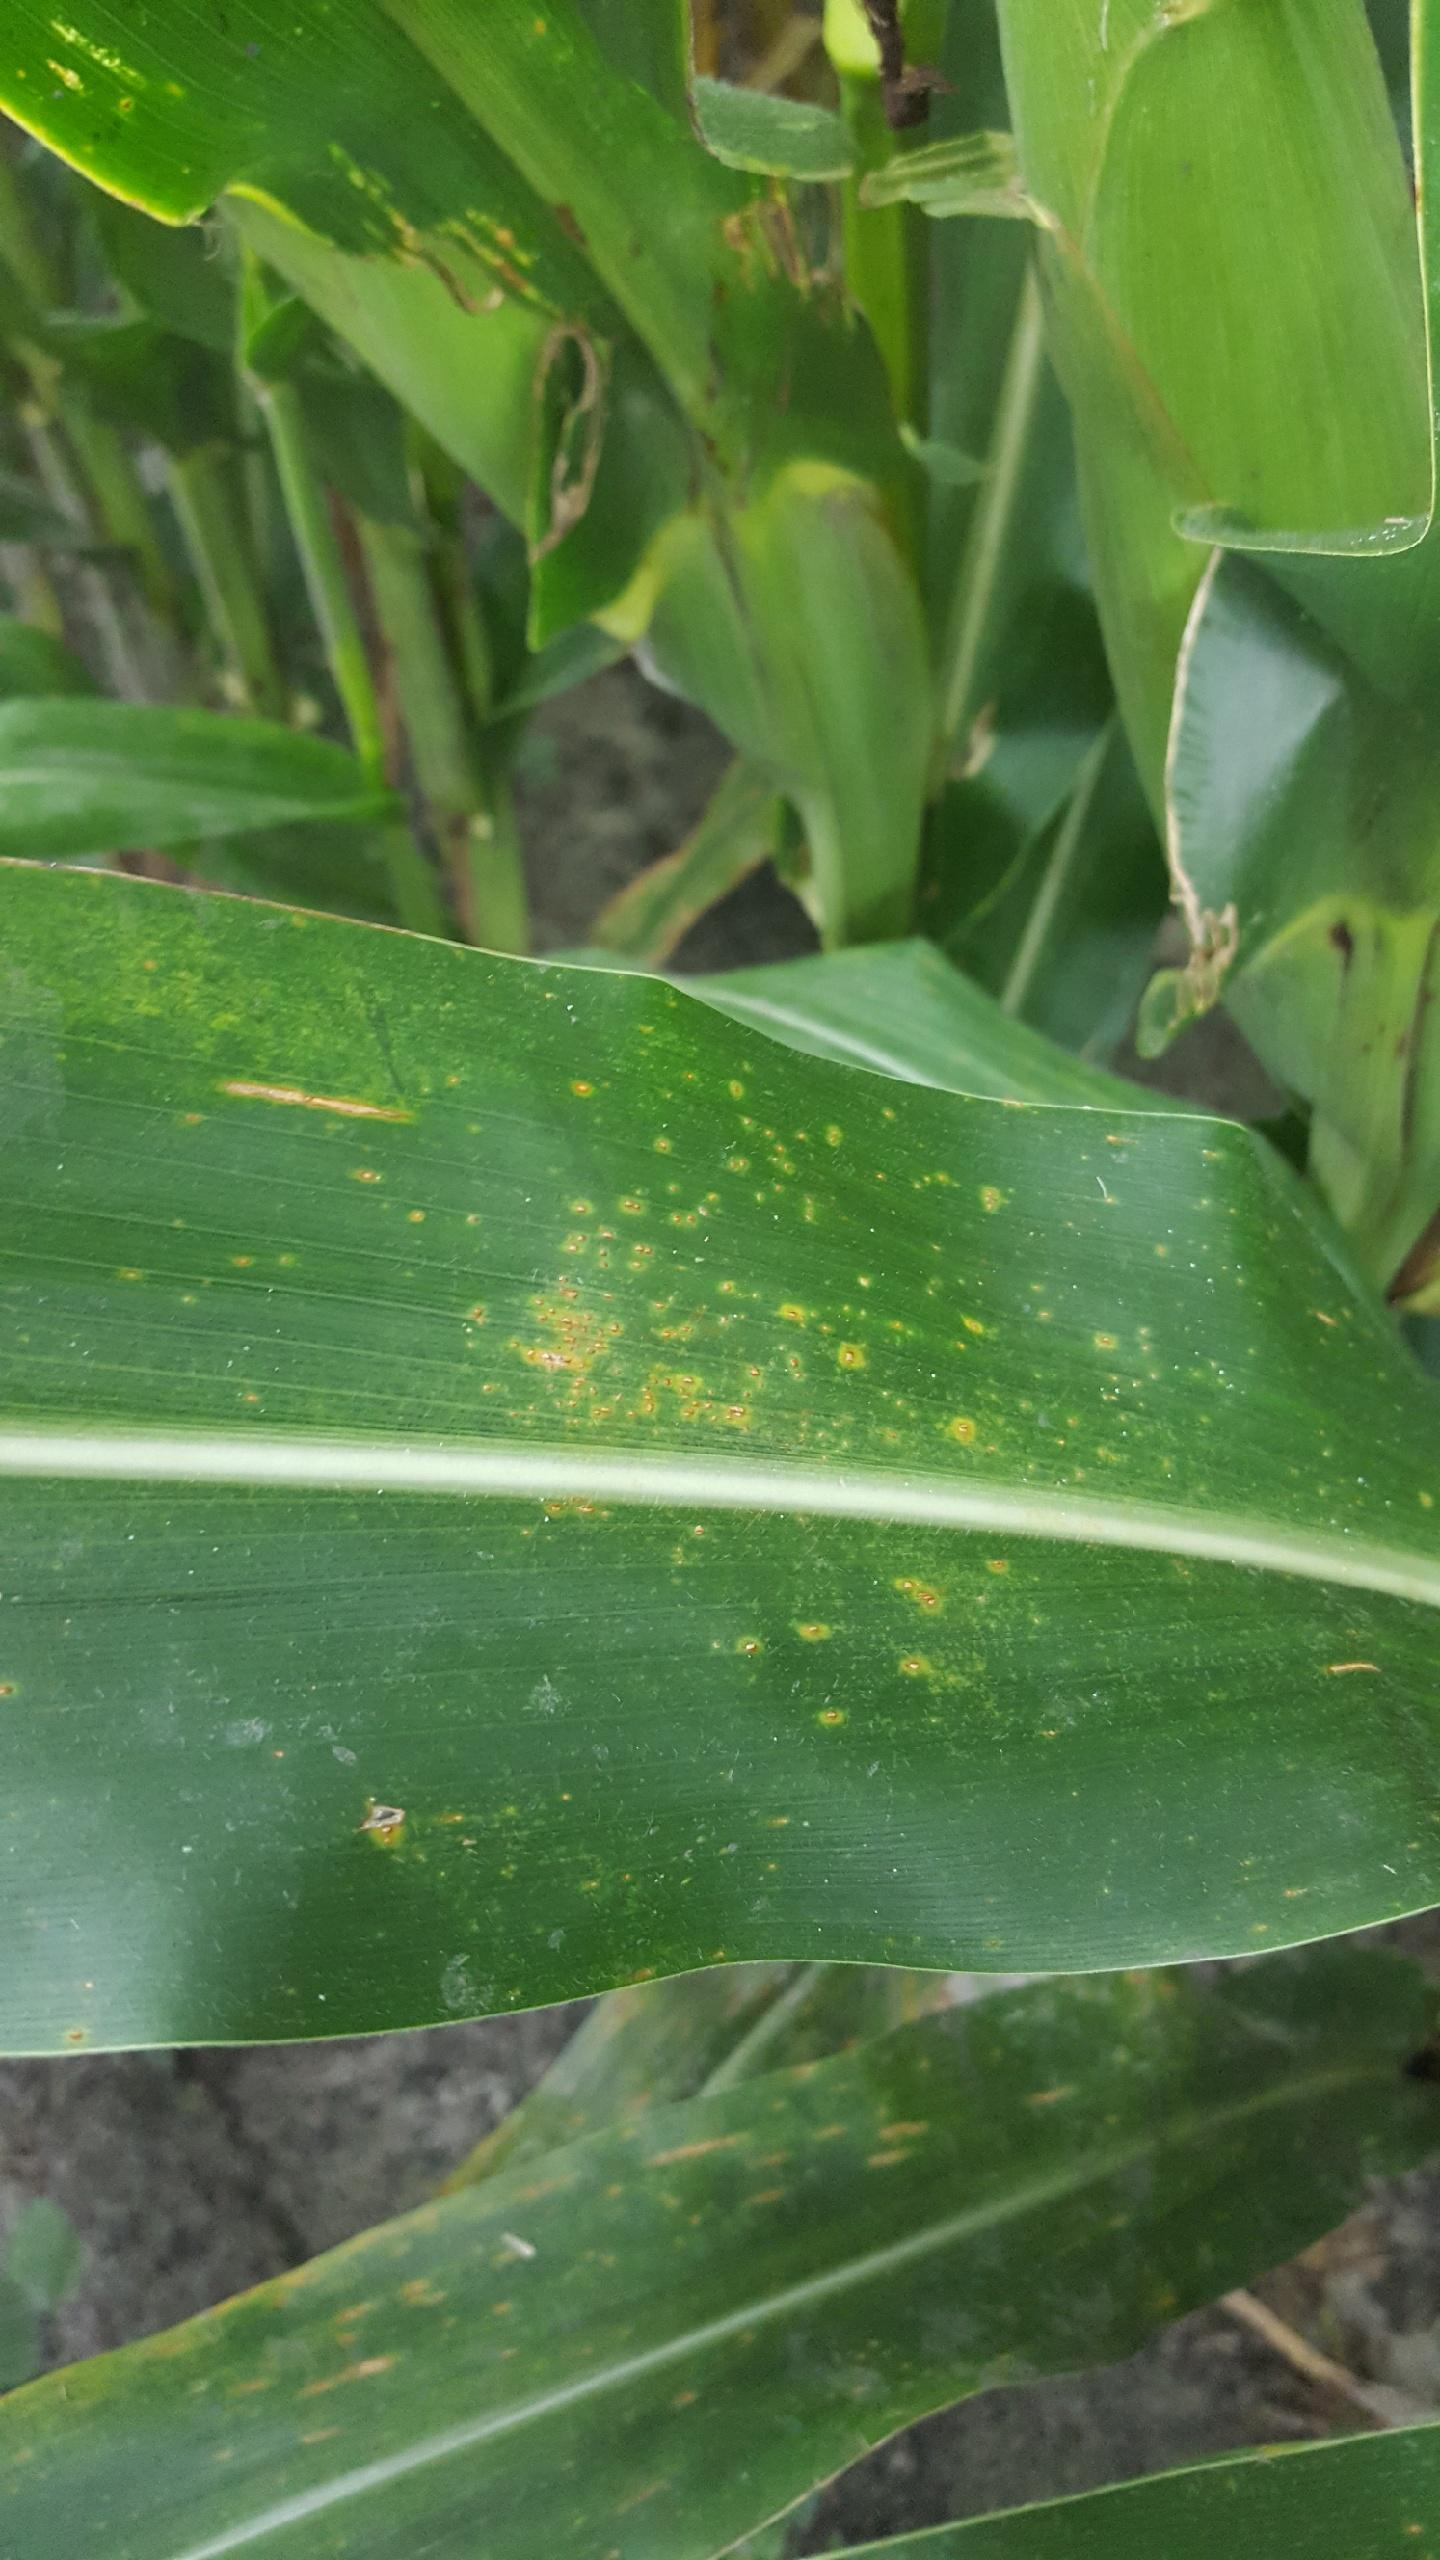Corn_Common_Rust: (434, 949, 1180, 1465), (547, 1473, 1261, 1720), (98, 872, 506, 1138), (297, 1749, 700, 1878), (1282, 1261, 1440, 1535), (149, 1204, 353, 1306), (1312, 1575, 1435, 1734), (195, 1632, 316, 1765), (5, 1653, 37, 1760)
